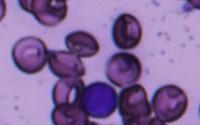L: (82, 81, 116, 118)
